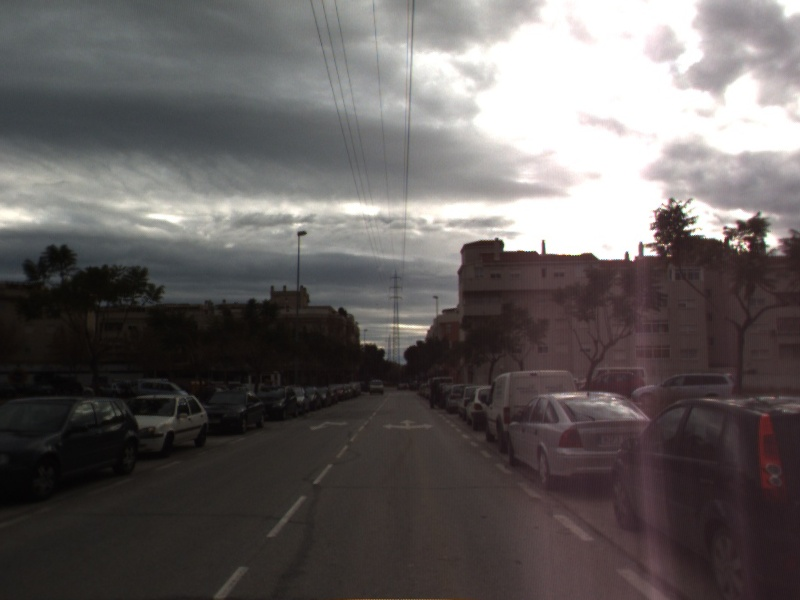STRAIGHT_LEFT_RIGHT: (380, 417, 436, 432)
